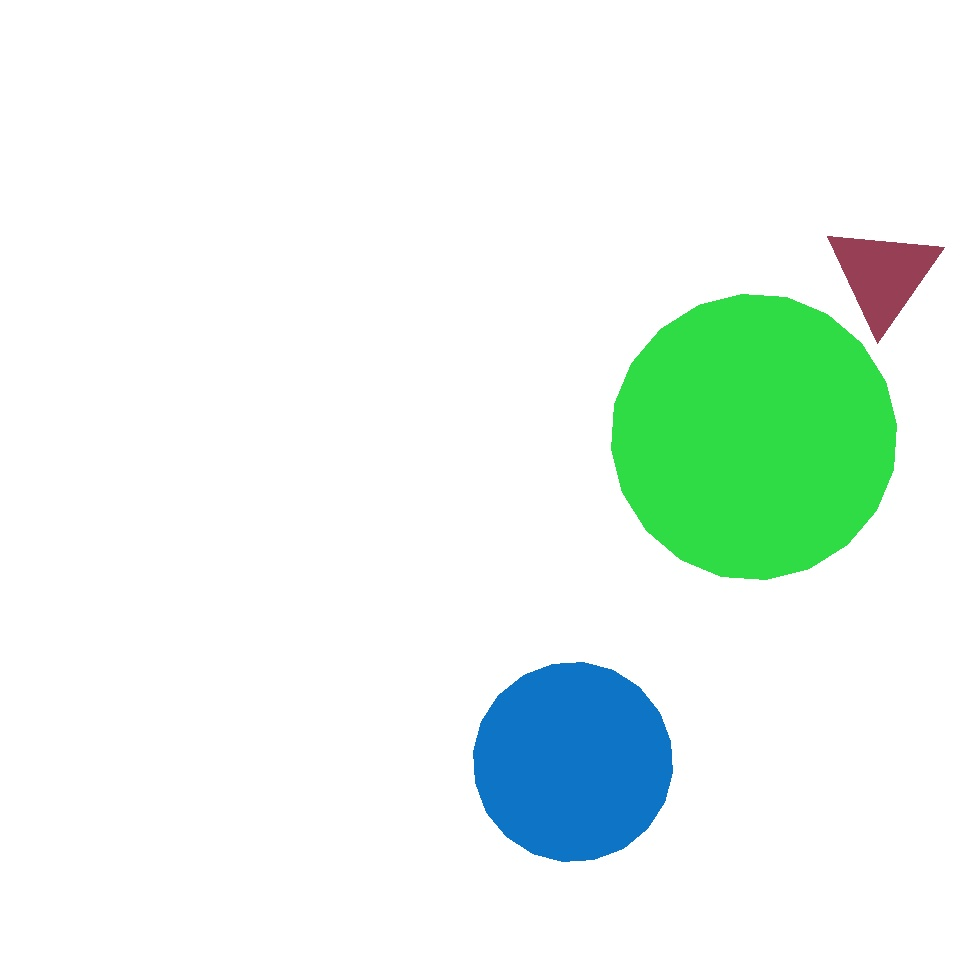circle: (116, 442, 428, 768), (90, 120, 414, 428), (436, 288, 720, 532), (824, 222, 942, 330)
square: (542, 378, 756, 594)
triangle: (612, 294, 896, 580), (474, 662, 672, 862)
